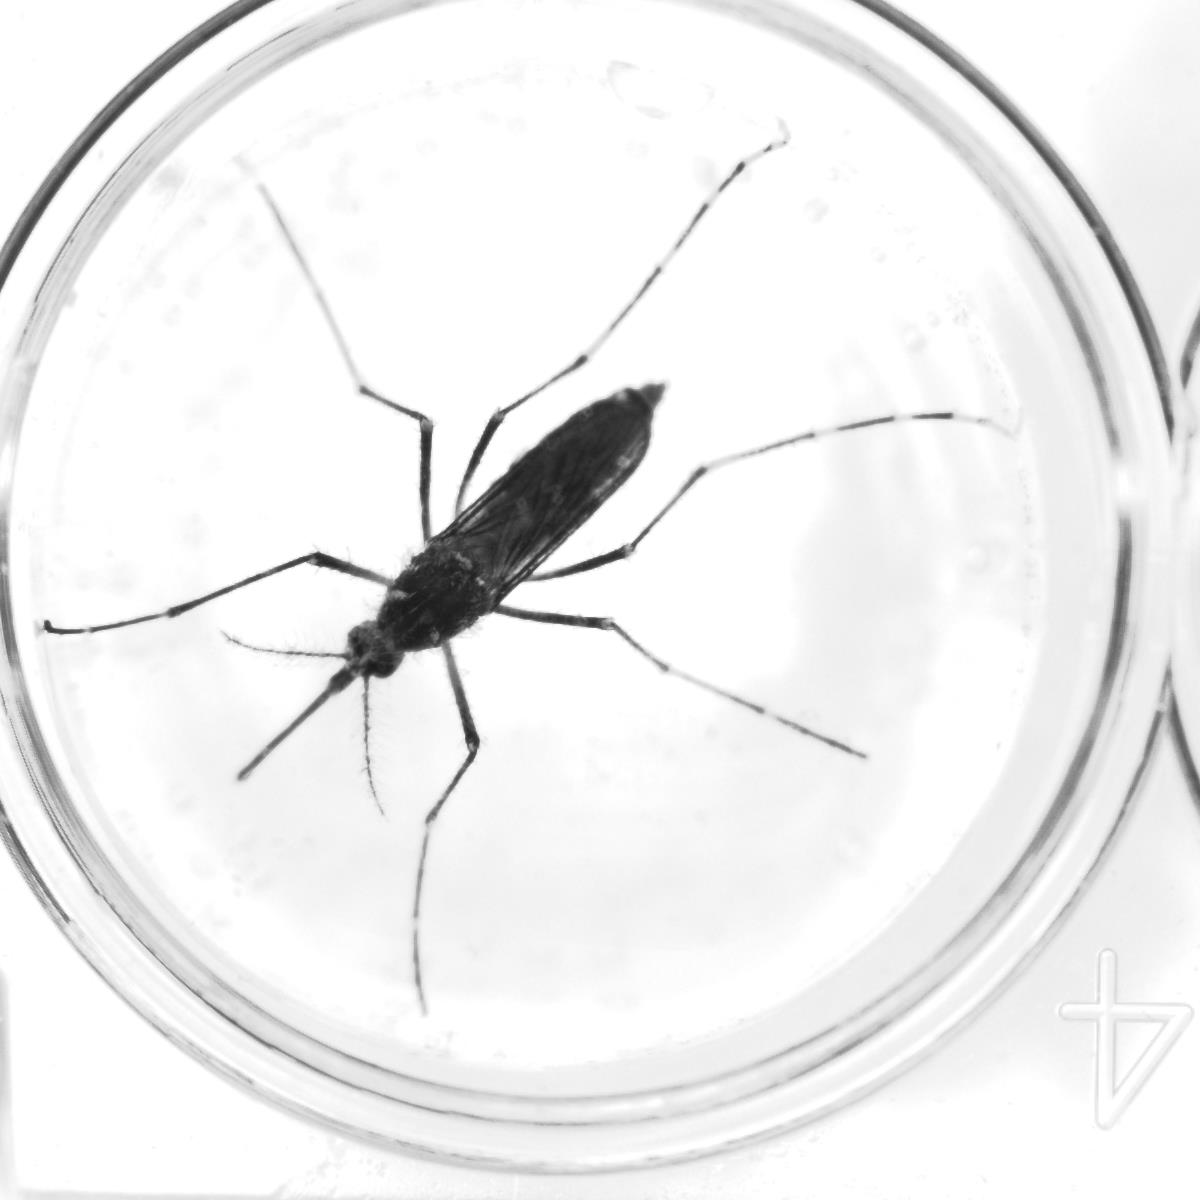f-a: (215, 625, 392, 822)
f-b: (111, 243, 909, 973)
f-c: (619, 371, 676, 419)
